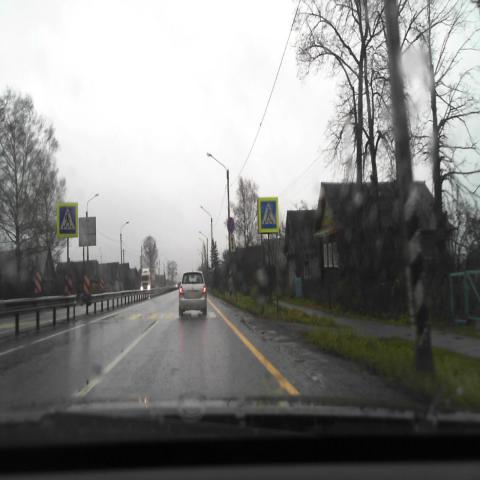5_19_1: (258, 197, 279, 233), (57, 203, 78, 238)
